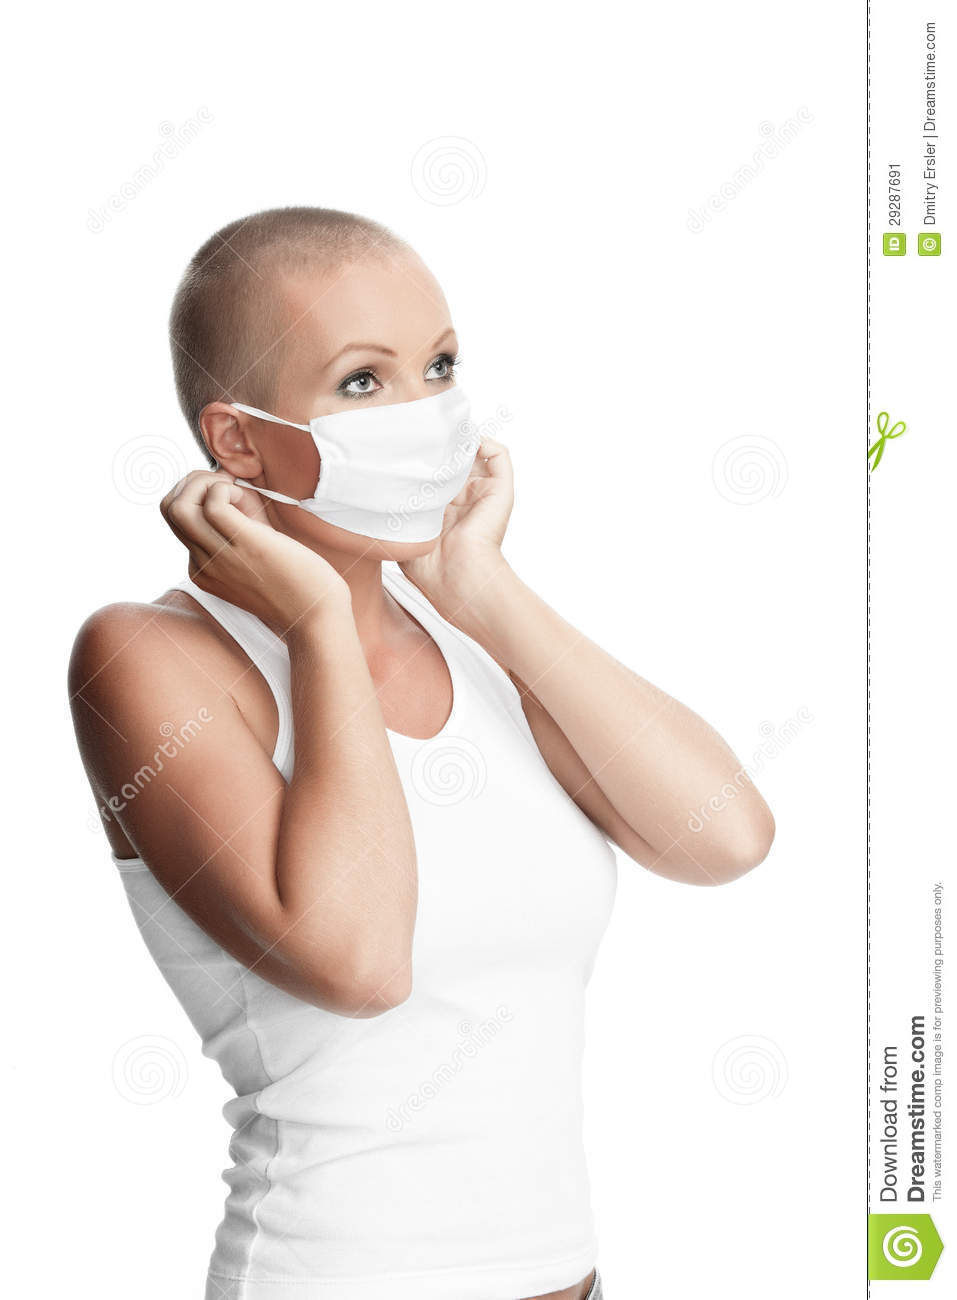mask: (301, 398, 482, 548)
